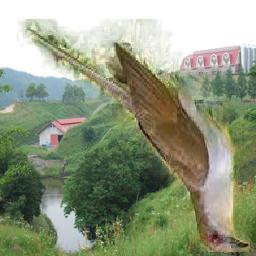Cuckoo: (16, 20, 251, 253)
